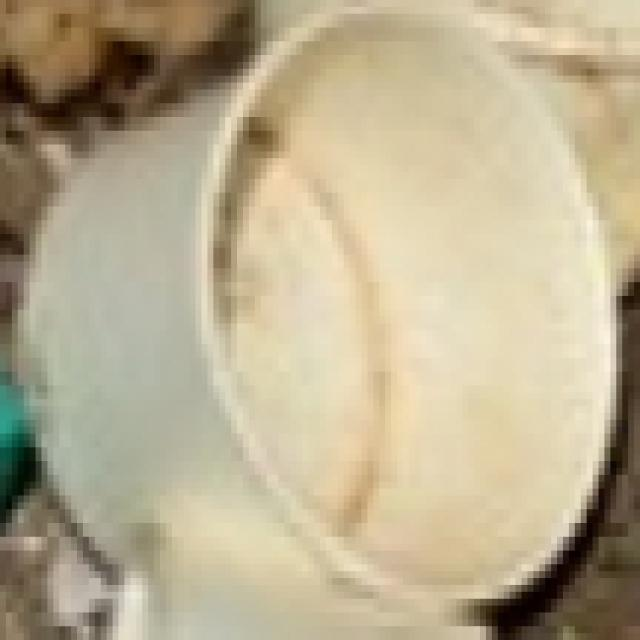paper cup: (23, 0, 634, 612)
